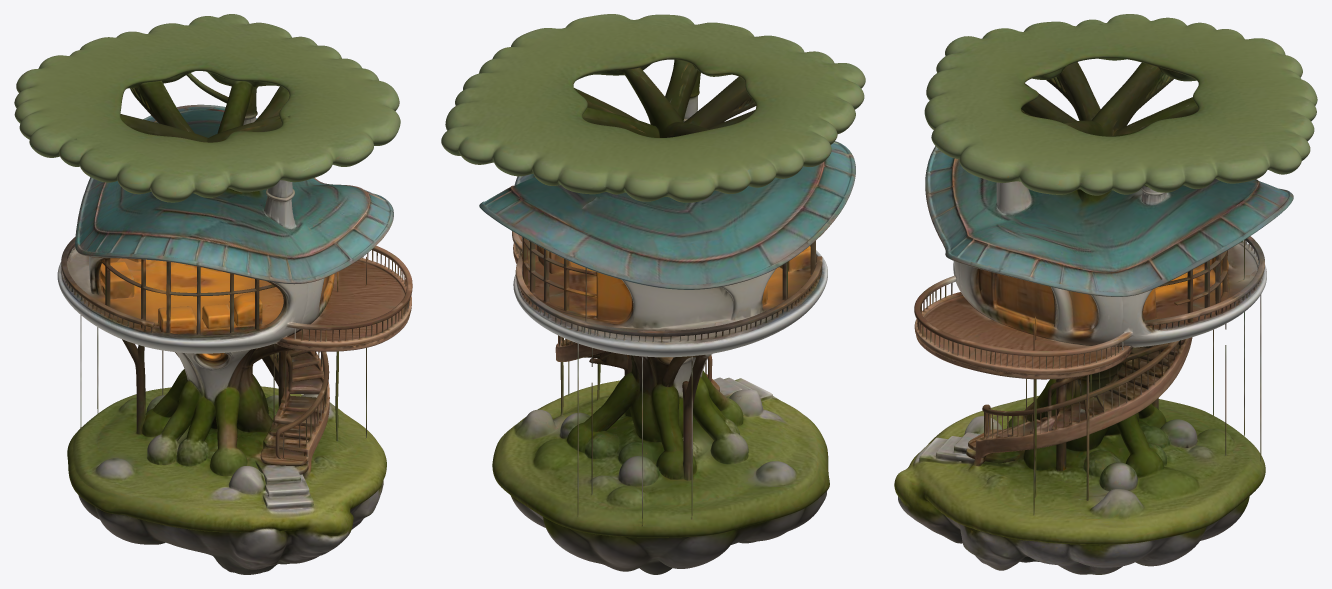
The model's file is aeris-house-lite.glb.
The picture shows the model from 3 angles, left to right: view 1: azimuth 30°, elevation 25°; view 2: azimuth 150°, elevation 25°; view 3: azimuth 270°, elevation 25°; orthographic projection. The views are drawn at different scales.
Parts seen in each view (by area): view 1: node_0; view 2: node_0; view 3: node_0.
Part boxes in pixels (bbox=[...]): node_0: bbox=[14, 14, 412, 574]; node_0: bbox=[441, 14, 865, 574]; node_0: bbox=[894, 14, 1317, 574].
Bounding box in the file's own units: 0.6961 × 0.903 × 0.737.
1 material, 1 textured.
